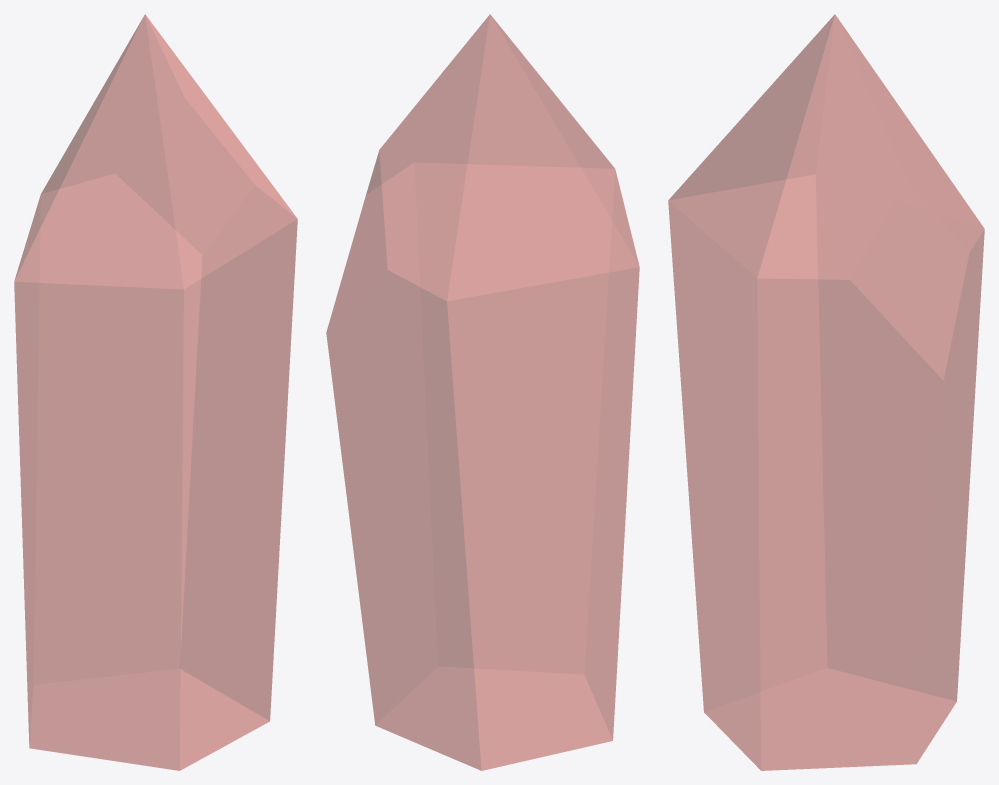
Rendered from Crystal3_Bogdan.fbx.
The picture shows the model from 3 angles, left to right: view 1: azimuth 30°, elevation 25°; view 2: azimuth 150°, elevation 25°; view 3: azimuth 270°, elevation 25°; orthographic projection.
Visible parts, largest first — view 1: Crystal3; view 2: Crystal3; view 3: Crystal3.
Boxes of the visible parts, box(x1,y1,x2,y2) form: Crystal3: box(14, 14, 297, 770); Crystal3: box(326, 14, 639, 770); Crystal3: box(668, 14, 984, 770).
Size of the model in its own units: 28.11 by 73.23 by 29.47.
